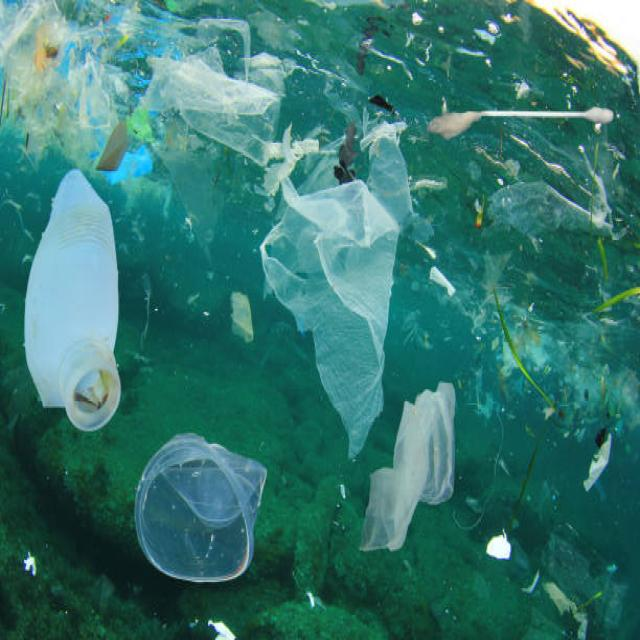garbage: (408, 47, 631, 255), (263, 180, 402, 450), (21, 169, 134, 434), (137, 434, 279, 592), (124, 39, 296, 168), (366, 382, 484, 560), (572, 414, 612, 501)
